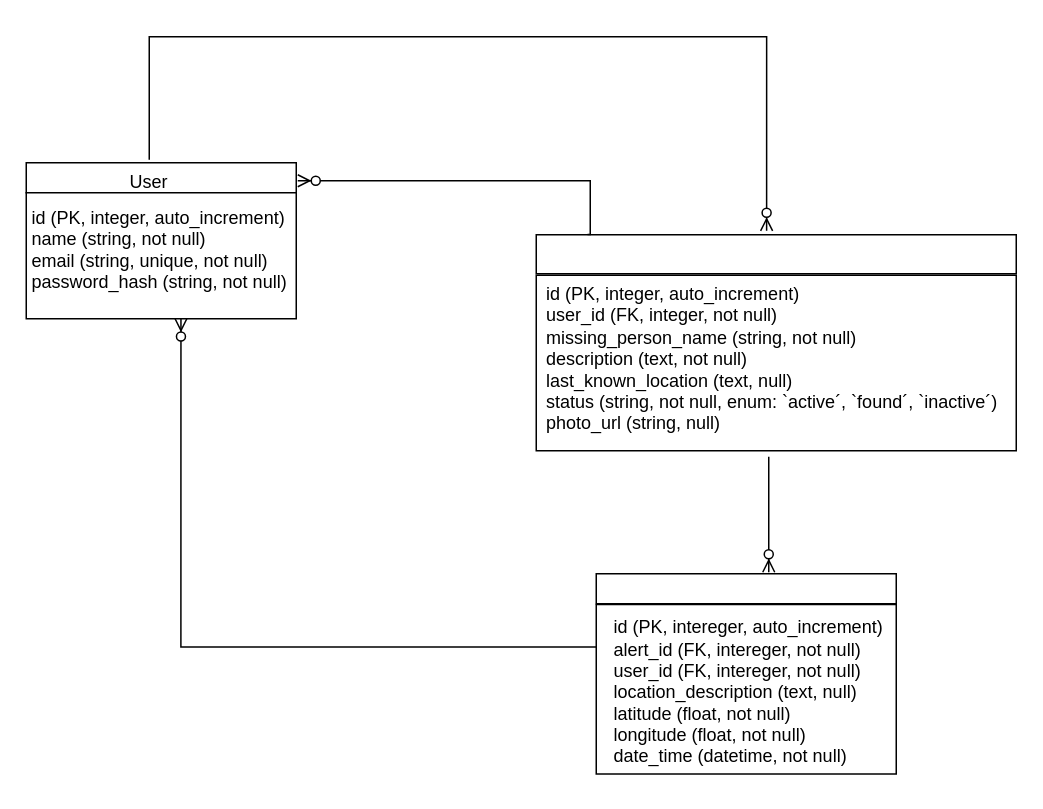
This 1043x809 diagram has some shape labels left out. The shapes that lost their labels are listed below. From the top down, each one's box as (x1, y1, x2, y2) in pixels, then its label:
(535, 233, 1016, 274): Alert
(595, 572, 896, 604): Sighting
